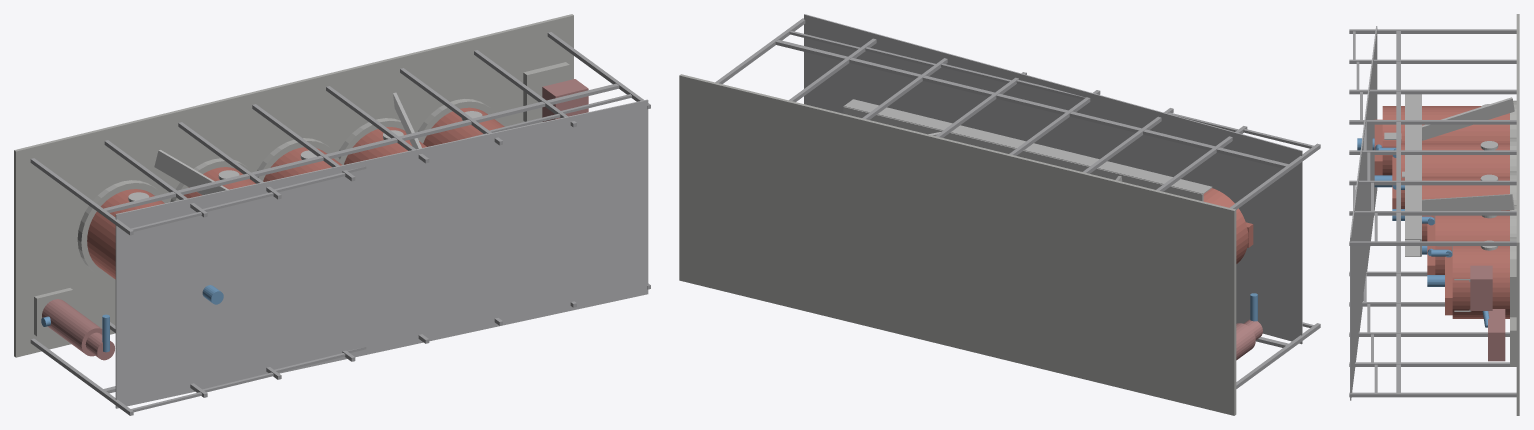
Rendered from adsorption_circuit_concept_v1.glb.
3 views of the same model, side by side, from view 1: azimuth 30°, elevation 25°; view 2: azimuth 150°, elevation 25°; view 3: azimuth 270°, elevation 25° (orthographic). The views are drawn at different scales.
Parts seen in each view (by area): view 1: STR_Roof, FDN_GroundSlab, COL_140-CC-001_Body, AUX_ScrubberTower_Body, FDN_140-CC-001, FDN_Hopper, COL_140-CC-005_Body, STAIR_01, AUX_Hopper, COL_140-CC-004_Body, COL_140-CC-003_Body, STR_Column_X1_R (+12 smaller); view 2: FDN_GroundSlab, STR_Roof, PLAT_LongitudinalWalkway_Rail_R, PLAT_LongitudinalWalkway, COL_140-CC-001_Body, STR_Column_X1_R, STR_Column_X1_L, STR_Column_X8_R, STR_Column_X7_R, STR_Column_X4_R, STR_Column_X5_R, STR_Column_X3_R (+2 smaller); view 3: STR_Roof, COL_140-CC-005_Body, COL_140-CC-001_Body, COL_140-CC-002_Body, COL_140-CC-004_Body, PLAT_LongitudinalWalkway_Rail_R, FDN_GroundSlab, COL_140-CC-003_Body, STAIR_02, STAIR_01, AUX_Hopper, STR_Column_X8_L (+25 smaller).
Boxes of the visible parts, x1,y1,x2,y2 form: STR_Roof: (115, 99, 648, 408); FDN_GroundSlab: (14, 14, 573, 357); COL_140-CC-001_Body: (87, 189, 164, 279); AUX_ScrubberTower_Body: (42, 299, 102, 356); FDN_140-CC-001: (77, 180, 167, 279); FDN_Hopper: (523, 62, 569, 121); COL_140-CC-005_Body: (423, 107, 504, 146); STAIR_01: (154, 150, 228, 194); AUX_Hopper: (542, 79, 588, 121); COL_140-CC-004_Body: (344, 127, 426, 164); COL_140-CC-003_Body: (263, 147, 342, 181); STR_Column_X1_R: (30, 158, 133, 235); FDN_GroundSlab: (679, 74, 1236, 415); STR_Roof: (804, 14, 1302, 344); PLAT_LongitudinalWalkway_Rail_R: (844, 99, 1212, 194); PLAT_LongitudinalWalkway: (843, 106, 1203, 201); COL_140-CC-001_Body: (1203, 188, 1248, 263); STR_Column_X1_R: (1229, 143, 1320, 209); STR_Column_X1_L: (1236, 323, 1320, 388); STR_Column_X8_R: (715, 18, 805, 83); STR_Column_X7_R: (789, 38, 876, 101); STR_Column_X4_R: (1009, 90, 1100, 155); STR_Column_X5_R: (936, 72, 1026, 137); STR_Column_X3_R: (1083, 108, 1173, 173); STR_Roof: (1350, 26, 1377, 400); COL_140-CC-005_Body: (1452, 246, 1509, 318); COL_140-CC-001_Body: (1382, 106, 1509, 175); COL_140-CC-002_Body: (1401, 143, 1509, 208); COL_140-CC-004_Body: (1435, 210, 1509, 274); PLAT_LongitudinalWalkway_Rail_R: (1405, 94, 1420, 239); FDN_GroundSlab: (1516, 14, 1519, 415); COL_140-CC-003_Body: (1422, 176, 1509, 241); STAIR_02: (1422, 194, 1514, 210); STAIR_01: (1422, 97, 1514, 140); AUX_Hopper: (1470, 265, 1492, 310); STR_Column_X8_L: (1349, 392, 1516, 397).
Bounding box in the file's own units: 34 × 12 × 10.7.
